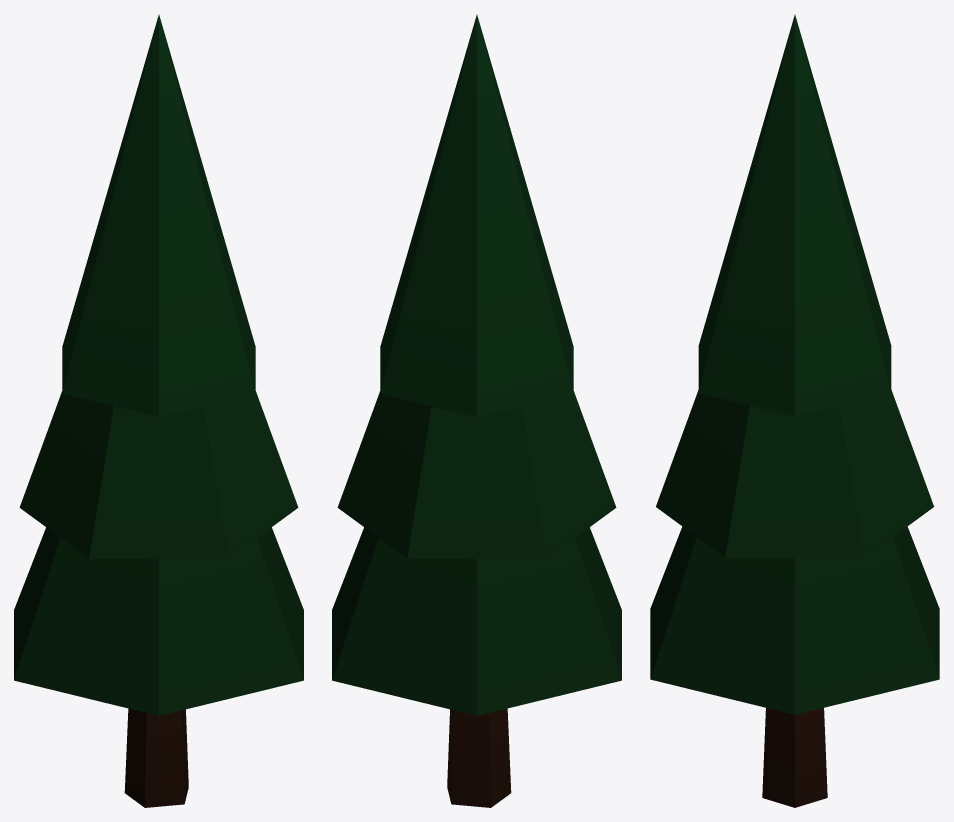
File: tree_conifer.glb
3 views of the same model, side by side, from view 1: azimuth 30°, elevation 25°; view 2: azimuth 150°, elevation 25°; view 3: azimuth 270°, elevation 25° (orthographic).
Parts seen in each view (by area): view 1: tree_conifer2; view 2: tree_conifer2; view 3: tree_conifer2.
Part boxes in pixels (left/top/right/bottom): tree_conifer2: left=14, top=15, right=303, bottom=807; tree_conifer2: left=332, top=15, right=621, bottom=807; tree_conifer2: left=650, top=15, right=939, bottom=807.
Bounding box in the file's own units: 0.68 × 1.75 × 0.5889.
